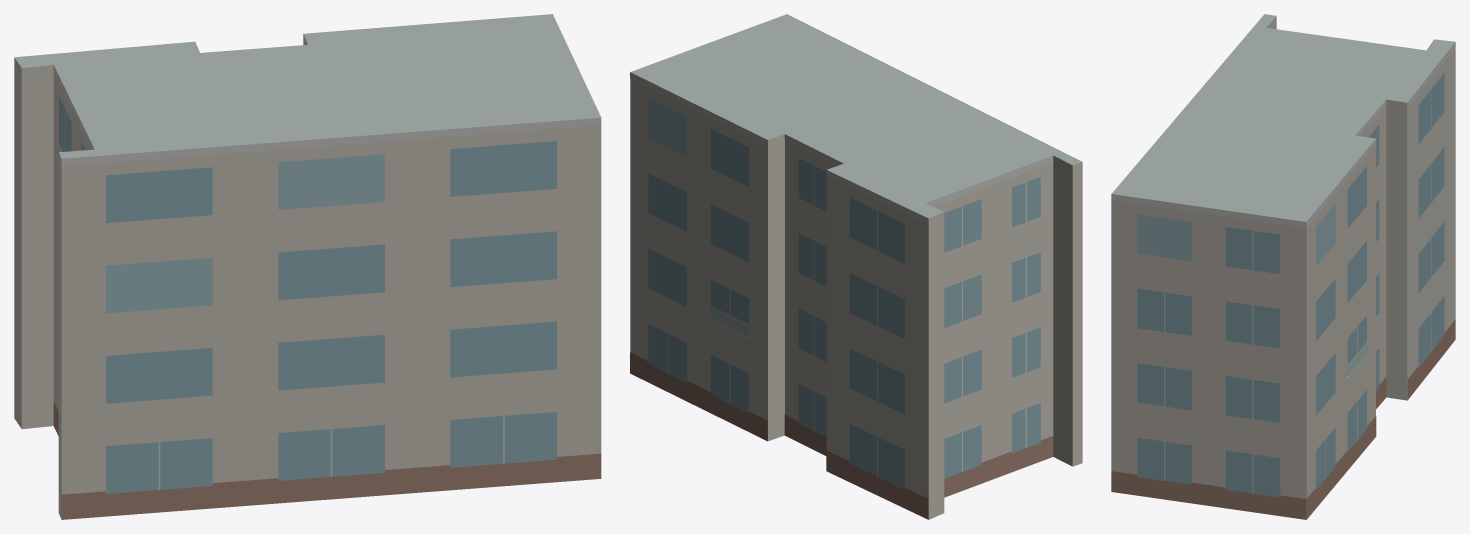
The model's file is survey-upis-32842151.glb.
3 renders of one model, left to right at view 1: azimuth 30°, elevation 25°; view 2: azimuth 150°, elevation 25°; view 3: azimuth 270°, elevation 25°, orthographic. The views are drawn at different scales.
Parts seen in each view (by area): view 1: survey-upis-32842151.tmp; view 2: survey-upis-32842151.tmp; view 3: survey-upis-32842151.tmp.
Boxes of the visible parts, box(x1,y1,x2,y2) form: survey-upis-32842151.tmp: box(14, 14, 601, 519); survey-upis-32842151.tmp: box(630, 14, 1082, 519); survey-upis-32842151.tmp: box(1111, 14, 1455, 519).
Size of the model in its own units: 17.53 by 11.7 by 12.26.
